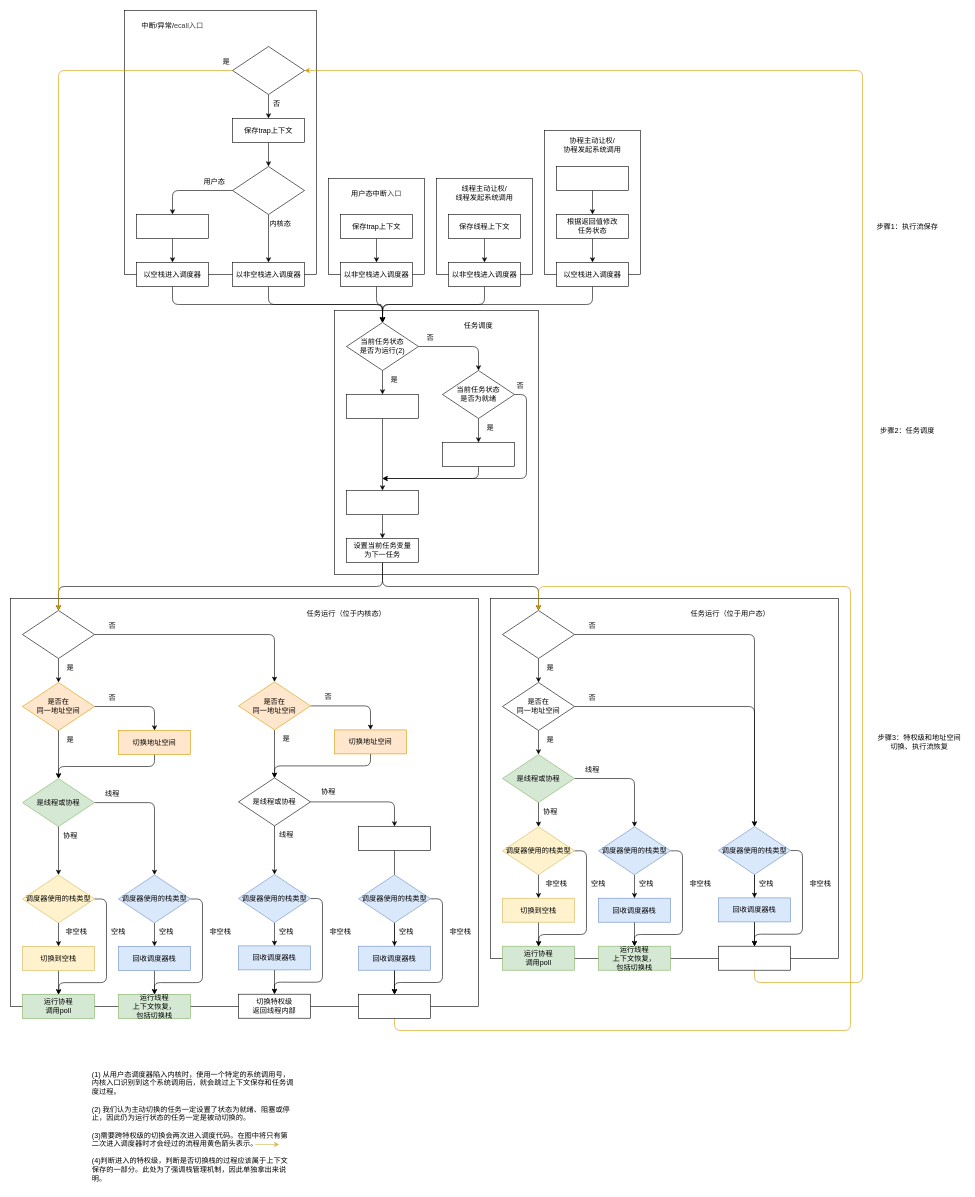
Some shapes in this 975 by 1197 pixel diagram are drawn without their labels. The shapes that lost their labels are listed below. From the top down, each one's centre as x and y in pixels, then its label:
At [268,70]: "是否是特定的 系统调用(1)".
At [268,190]: "从何种特权级进入 (4)".
At [592,178]: "从poll函数中返回".
At [172,226]: "切换到内核栈".
At [382,406]: "设置当前任务状态 为阻塞".
At [478,454]: "当前任务 放回调度器".
At [382,502]: "从调度器取出 下一任务".
At [58,634]: "任务是否在内核态".
At [538,634]: "任务是否在用户态".
At [394,838]: "为用户态调度器 分配栈".
At [754,958]: "切换特权级 进入内核态调度器(1)".
At [394,1006]: "切换特权级 以空栈返回 用户态调度器".
